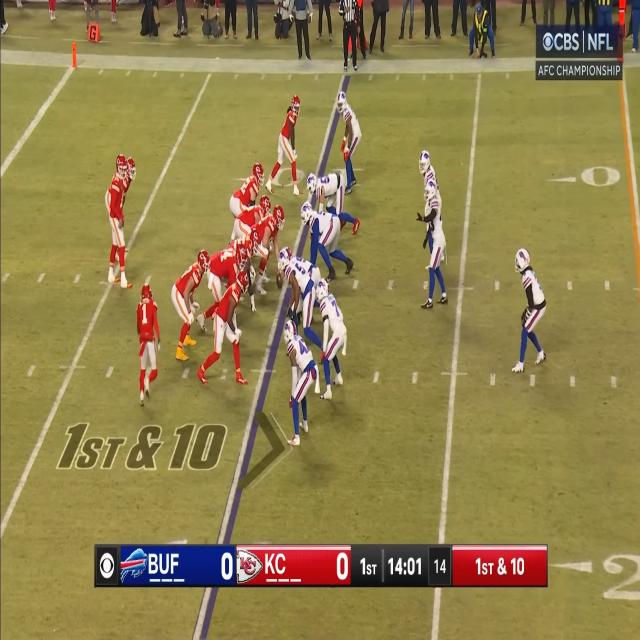Ball: (277, 273, 283, 289)
